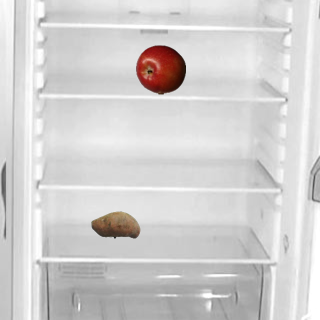Apple Braeburn: (135, 44, 185, 94)
Potato Sweet: (90, 199, 140, 249)
